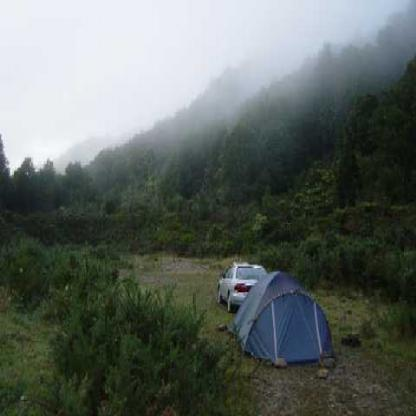car: (218, 261, 268, 312)
